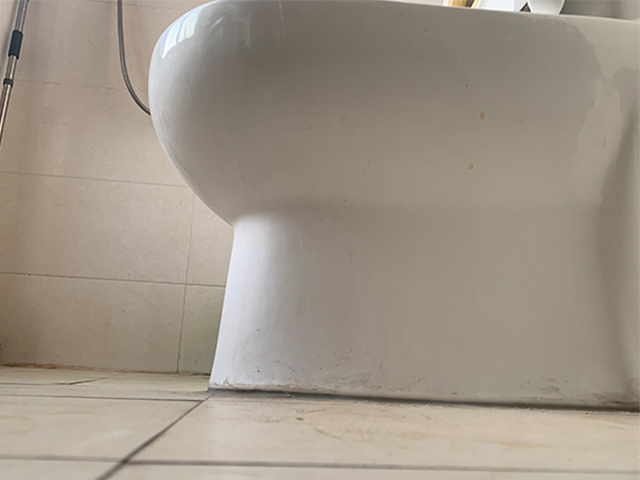closestool: (146, 1, 640, 411)
